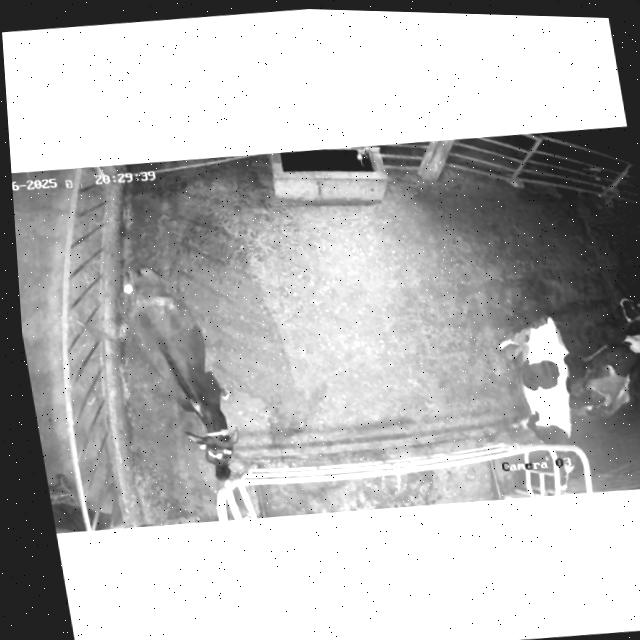stand: (102, 250, 279, 485), (483, 303, 591, 495), (553, 263, 640, 440)
